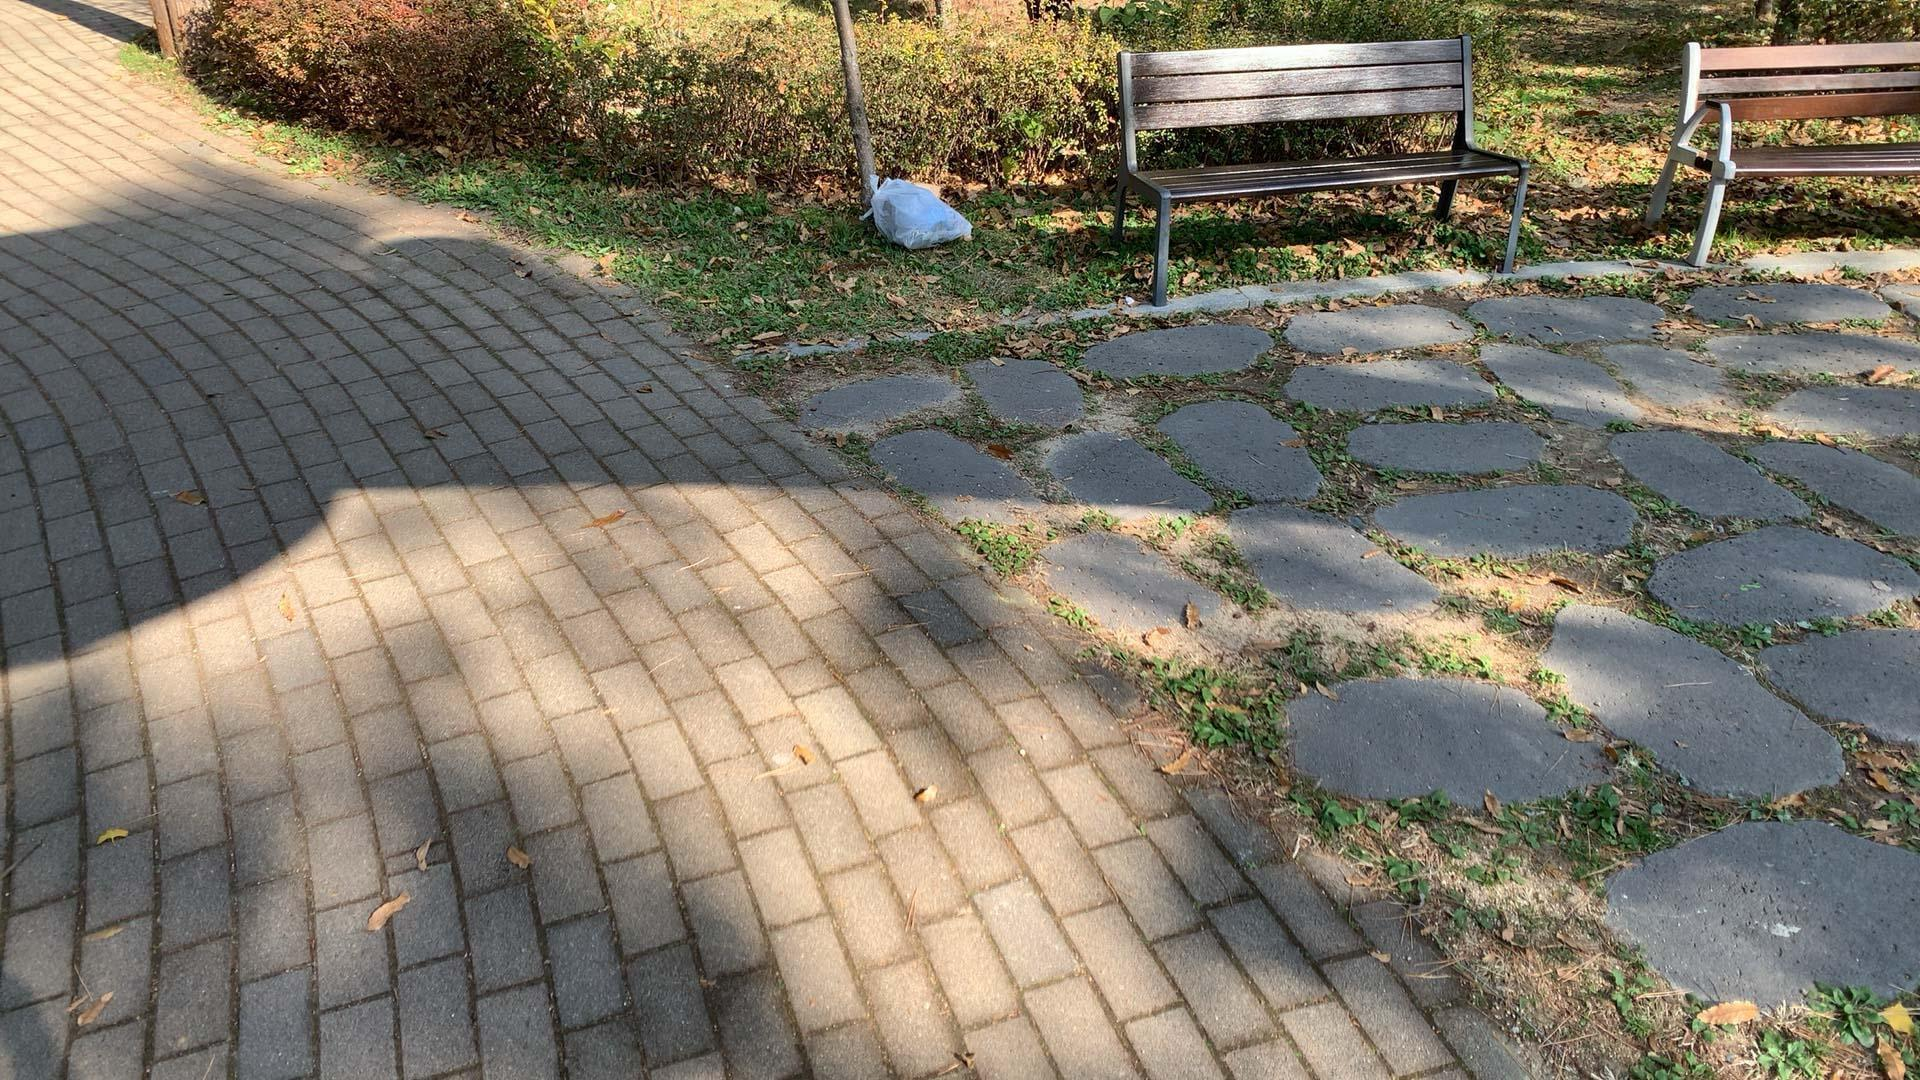white_bag: (857, 169, 975, 248)
